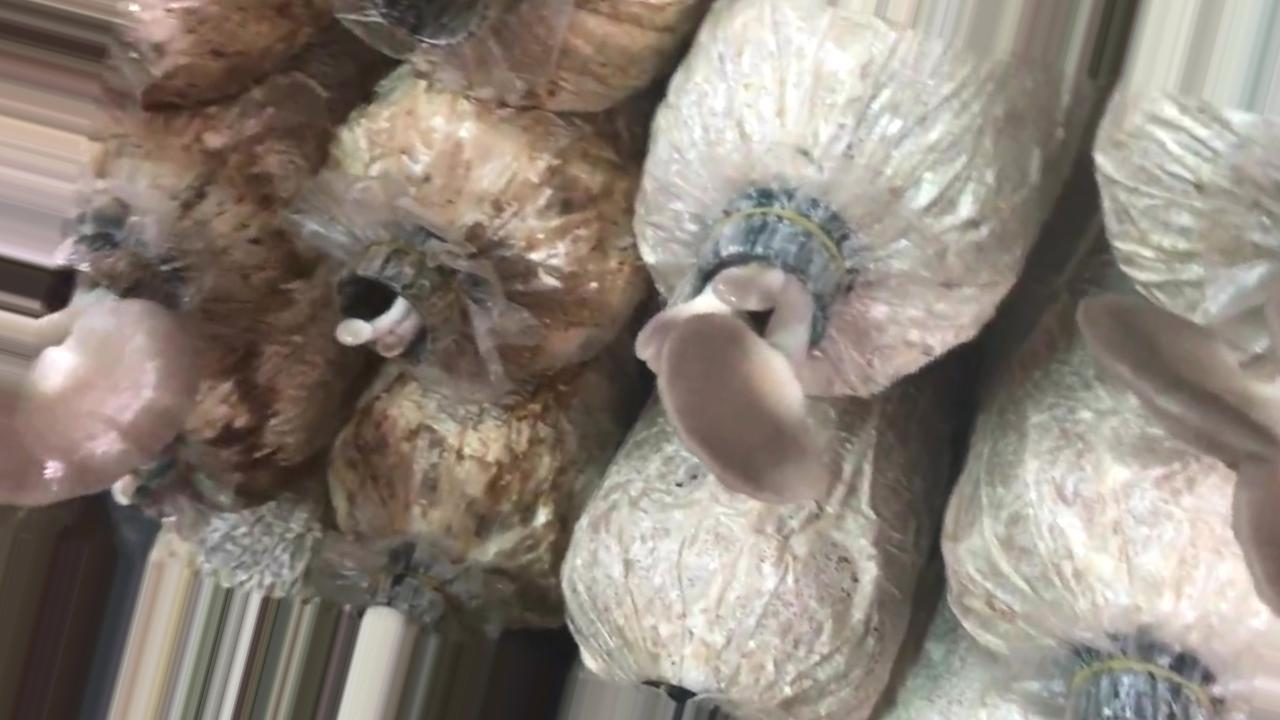nam: (1077, 291, 1280, 613), (636, 200, 842, 505), (1, 239, 196, 508), (335, 249, 438, 356)
